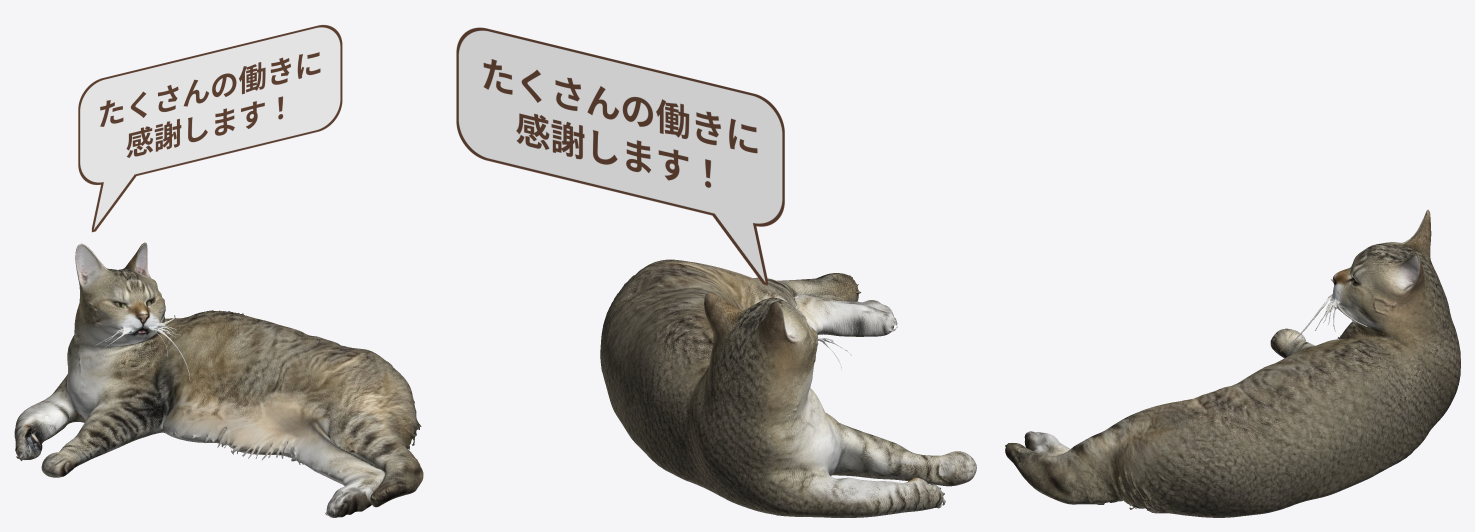
The model's file is cat-3d-thanks.glb.
The picture shows the model from 3 angles, left to right: view 1: azimuth 30°, elevation 25°; view 2: azimuth 150°, elevation 25°; view 3: azimuth 270°, elevation 25°; orthographic projection. The views are drawn at different scales.
Parts seen in each view (by area): view 1: CatGroup, BubbleFront; view 2: CatGroup, BubbleBack; view 3: CatGroup.
Part boxes in pixels (x1,y1,x2,y2): CatGroup: (14, 242, 423, 517); BubbleFront: (78, 25, 342, 232); CatGroup: (600, 259, 976, 517); BubbleBack: (456, 27, 784, 285); CatGroup: (1005, 209, 1460, 517).
Bounding box in the file's own units: 0.4001 × 0.3557 × 0.3798.
Materials: 3 (3 with a texture image).
